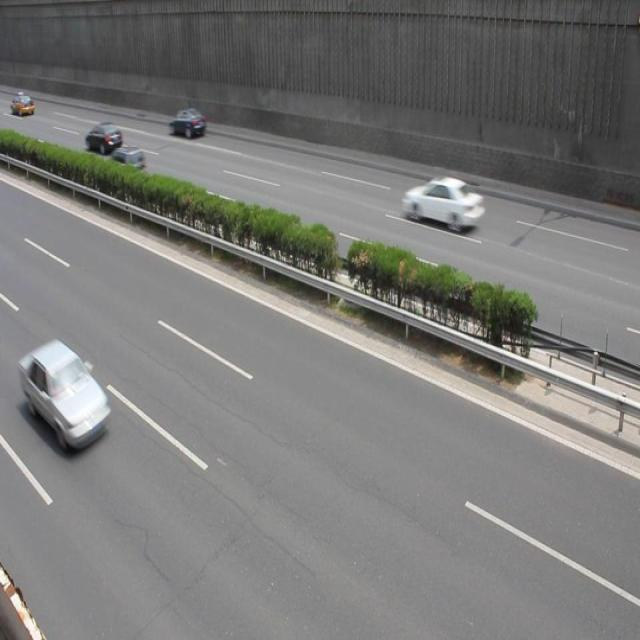car: (19, 336, 111, 452), (402, 172, 485, 233), (104, 144, 147, 182), (85, 121, 122, 154), (168, 107, 206, 138)
